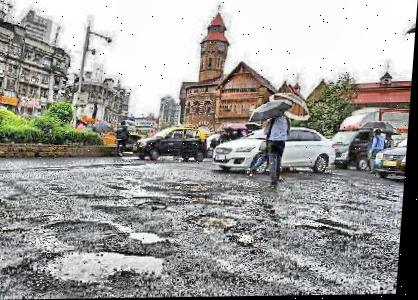pothole: (37, 248, 174, 285), (192, 212, 242, 231), (130, 228, 171, 244), (179, 181, 204, 195), (139, 199, 171, 209)
